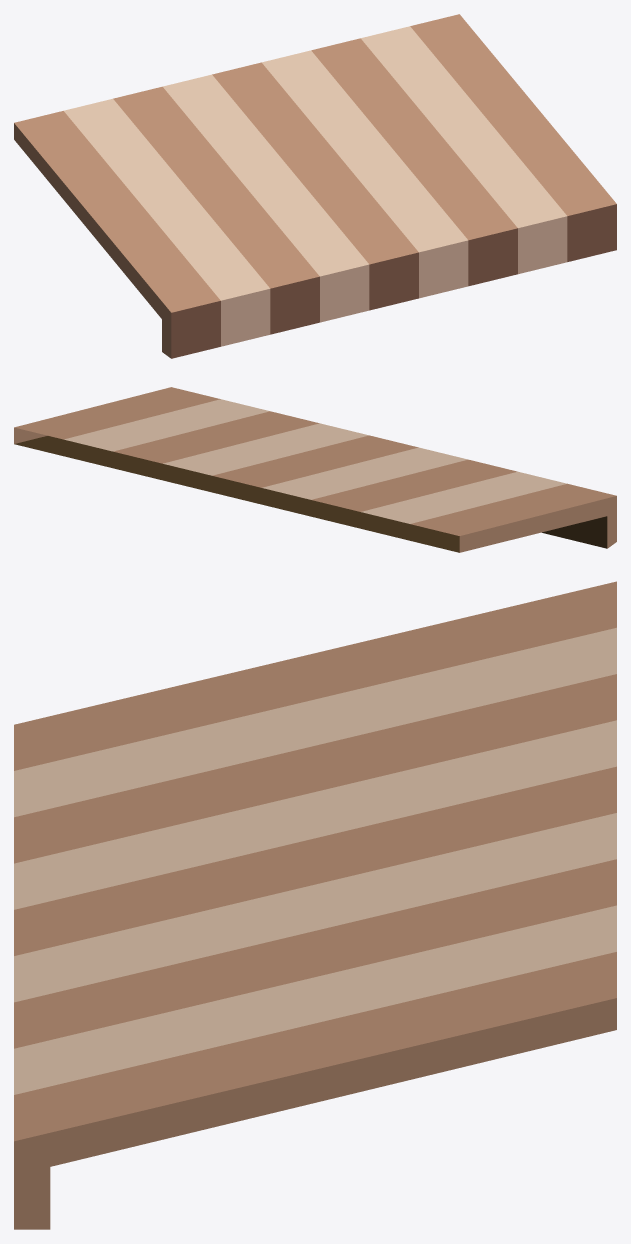
File: TB_CITY_BD_Canopy_Big_F.FBX
The picture shows the model from 3 angles, top to bottom: view 1: azimuth 30°, elevation 25°; view 2: azimuth 150°, elevation 25°; view 3: azimuth 270°, elevation 25°; orthographic projection. The views are drawn at different scales.
Visible parts, largest first — view 1: TB_CITY_BD_Canopy_Big_F; view 2: TB_CITY_BD_Canopy_Big_F; view 3: TB_CITY_BD_Canopy_Big_F.
Part boxes in pixels (x1,y1,x2,y2): TB_CITY_BD_Canopy_Big_F: [14, 14, 616, 358]; TB_CITY_BD_Canopy_Big_F: [14, 387, 616, 552]; TB_CITY_BD_Canopy_Big_F: [14, 581, 616, 1229].
Size of the model in its own units: 6.47 by 1.68 by 3.96.
